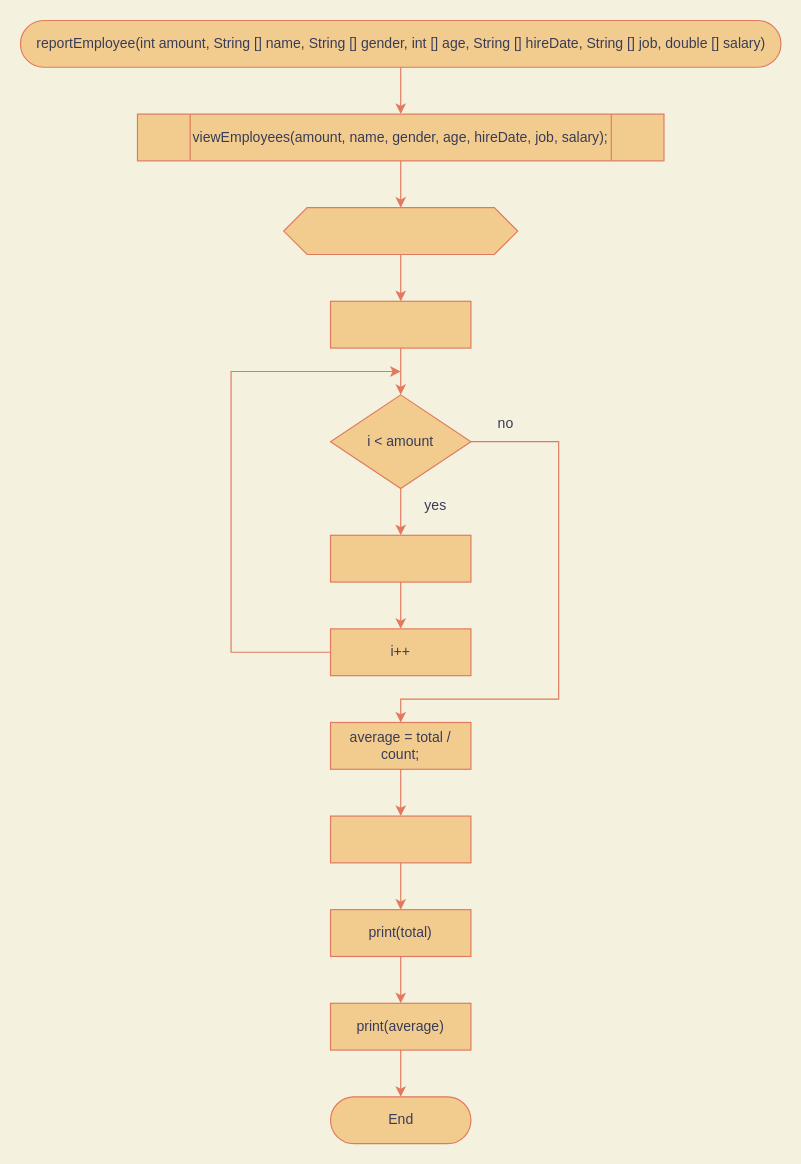
This 801x1164 diagram has some shape labels left out. Each missing label, with the centre of its shape:
count++; total += salary[i];: the point at 400,558
double total = 0, average = 0; int count = 0;: the point at 400,230
int i = 0: the point at 400,324
print(amount): the point at 400,839
